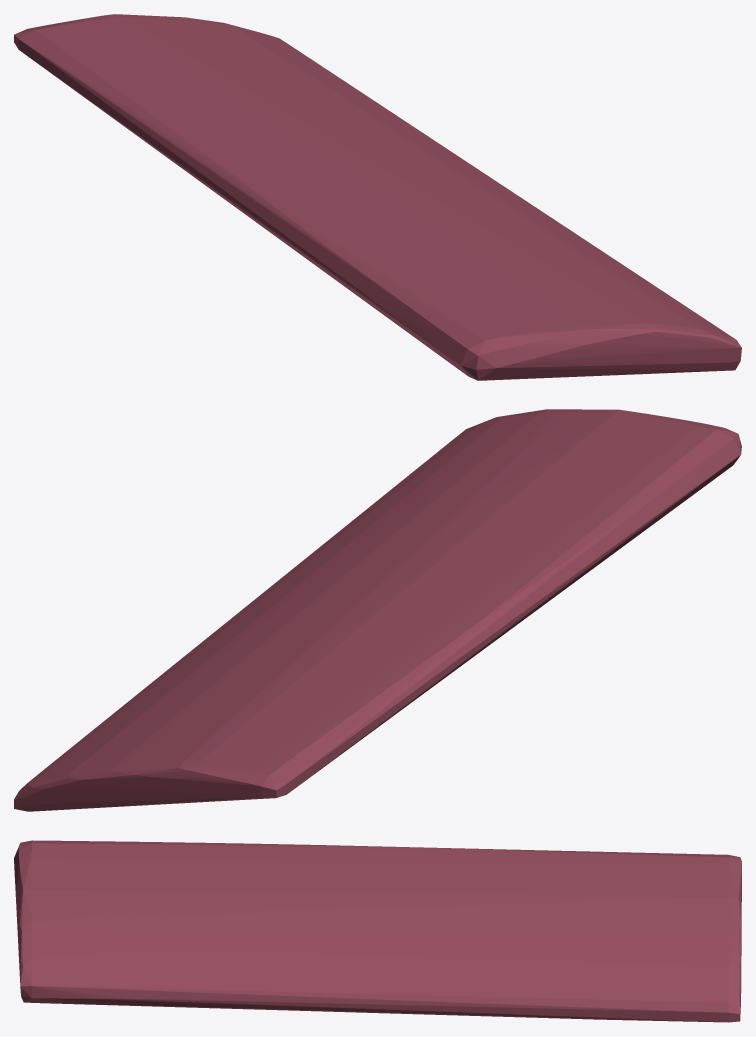
The model's file is right-shoulder-yaw-0_part_13.obj.
3 views of the same model, one above another, from view 1: azimuth 30°, elevation 25°; view 2: azimuth 150°, elevation 25°; view 3: azimuth 270°, elevation 25° (orthographic). The views are drawn at different scales.
Size of the model in its own units: 0.0193 by 0.00716 by 0.0562.
